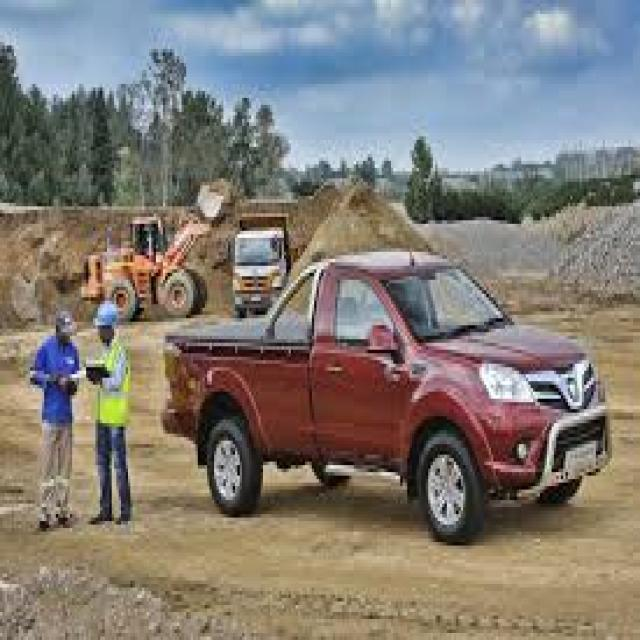Pickup Trucks: (166, 252, 614, 542)
